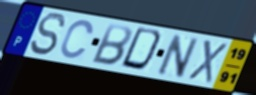B: (89, 22, 133, 68)
C: (58, 18, 95, 60)
D: (118, 25, 166, 74)
N: (155, 32, 201, 80)
S: (28, 11, 68, 57)
X: (185, 38, 229, 86)
